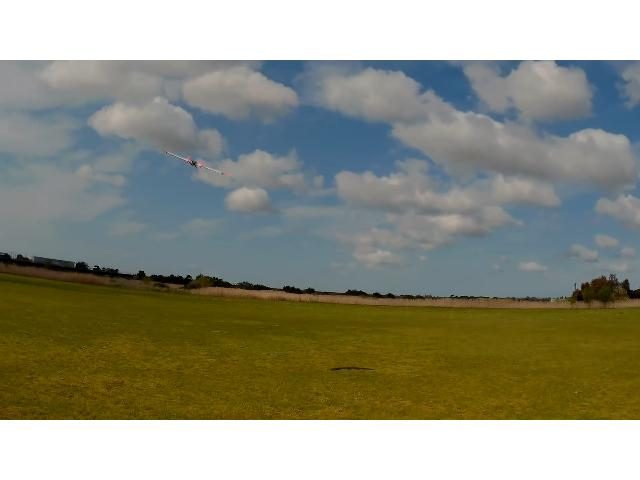Anti-Drone: (163, 150, 231, 176)
